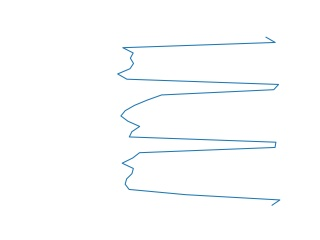majorRiverChannelBar: (115, 36, 284, 207)
